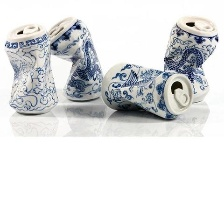can: (99, 59, 196, 122), (2, 21, 60, 116), (160, 15, 220, 103), (47, 10, 104, 102)
